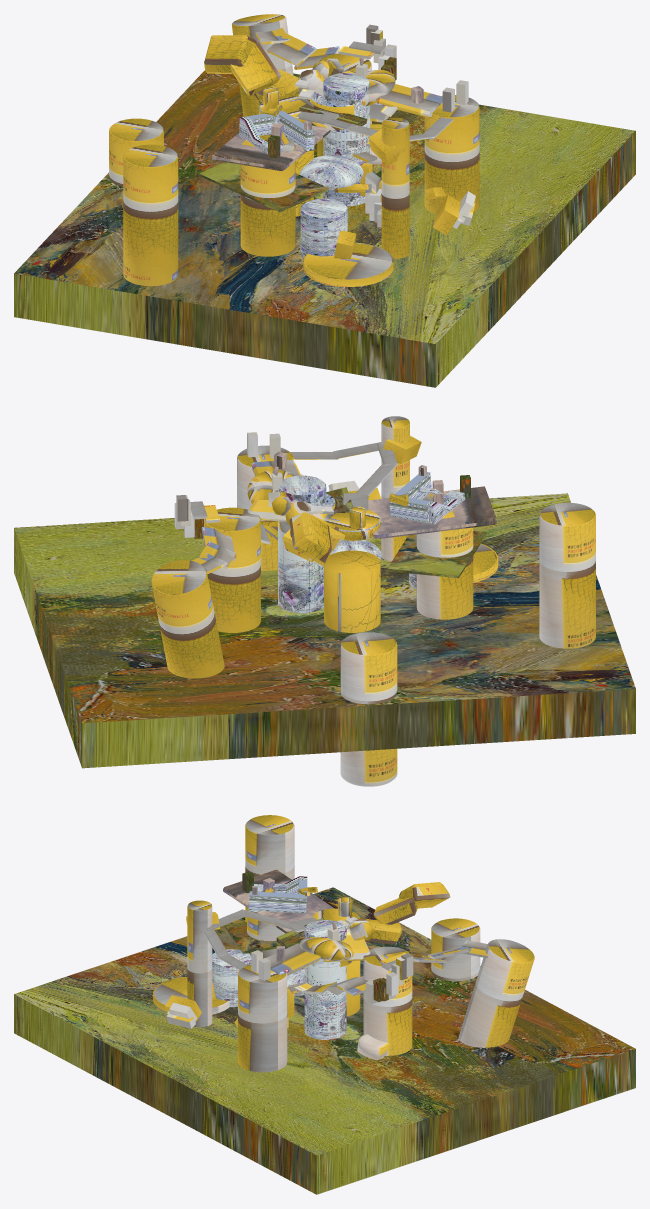
The model's file is level_0.glb.
3 renders of one model, top to bottom at view 1: azimuth 30°, elevation 25°; view 2: azimuth 150°, elevation 25°; view 3: azimuth 270°, elevation 25°, orthographic. The views are drawn at different scales.
Parts seen in each view (by area): view 1: Plane, Cylinder.004, Cylinder.009, Cylinder.001, Cylinder.017, Cylinder.007, Cylinder.016, Cylinder.015, Cube.056, Cylinder.005, Cube.034, Cylinder.012 (+14 smaller); view 2: Plane, Cylinder.004, Cylinder.012, Cylinder.005, Cylinder.011, Cylinder.010, Cylinder.001, Cylinder.007, Cube.034, Cube.056, Cylinder.017, Cylinder.009 (+8 smaller); view 3: Plane, Cylinder.012, Cylinder.009, Cylinder.011, Cylinder.007, Cylinder.004, Cylinder.017, Cylinder.005, Cube.034, Cylinder.015, Cube.071, Cylinder.016 (+9 smaller).
Boxes of the visible parts, bbox=[...] form: Plane: bbox=[14, 70, 635, 387]; Cylinder.004: bbox=[123, 144, 178, 286]; Cylinder.009: bbox=[424, 95, 479, 214]; Cylinder.001: bbox=[240, 135, 295, 256]; Cylinder.017: bbox=[381, 117, 409, 258]; Cylinder.007: bbox=[323, 73, 369, 206]; Cylinder.016: bbox=[303, 242, 393, 286]; Cylinder.015: bbox=[300, 198, 347, 257]; Cube.056: bbox=[199, 162, 328, 212]; Cylinder.005: bbox=[109, 118, 163, 186]; Cube.034: bbox=[211, 125, 330, 170]; Cylinder.012: bbox=[232, 14, 293, 116]; Plane: bbox=[14, 493, 635, 768]; Cylinder.004: bbox=[539, 502, 595, 648]; Cylinder.012: bbox=[151, 560, 224, 678]; Cylinder.005: bbox=[340, 632, 397, 786]; Cylinder.011: bbox=[204, 507, 260, 632]; Cylinder.010: bbox=[324, 550, 380, 632]; Cylinder.001: bbox=[416, 494, 473, 619]; Cylinder.007: bbox=[278, 475, 326, 613]; Cube.034: bbox=[368, 486, 496, 539]; Cube.056: bbox=[386, 531, 486, 578]; Cylinder.017: bbox=[381, 416, 409, 561]; Cylinder.009: bbox=[237, 445, 293, 570]; Plane: bbox=[14, 887, 635, 1194]; Cylinder.012: bbox=[458, 939, 534, 1047]; Cylinder.009: bbox=[238, 964, 287, 1072]; Cylinder.011: bbox=[363, 946, 412, 1055]; Cylinder.007: bbox=[304, 920, 346, 1039]; Cylinder.004: bbox=[245, 815, 294, 921]; Cylinder.017: bbox=[187, 900, 212, 1027]; Cylinder.005: bbox=[431, 918, 480, 981]; Cube.034: bbox=[223, 869, 334, 933]; Cylinder.015: bbox=[212, 949, 251, 1007]; Cube.071: bbox=[248, 891, 299, 912]; Cylinder.016: bbox=[153, 977, 229, 1014].
Bounding box in the file's own units: 341 × 116 × 334.
Materials: 4 (4 with a texture image).
